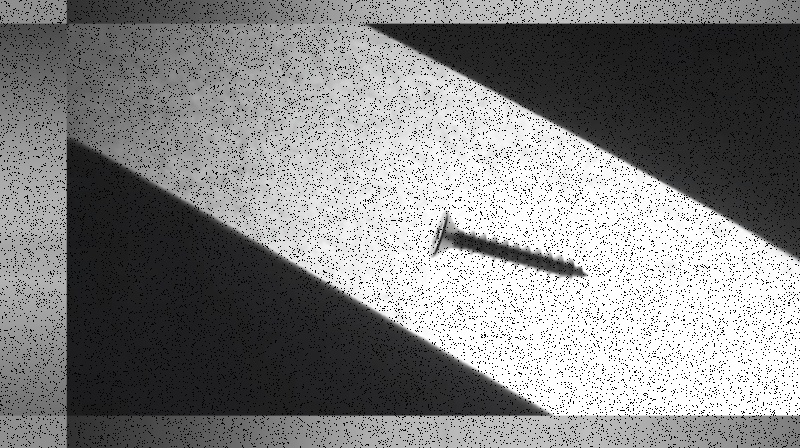S001: (425, 210, 589, 284)
